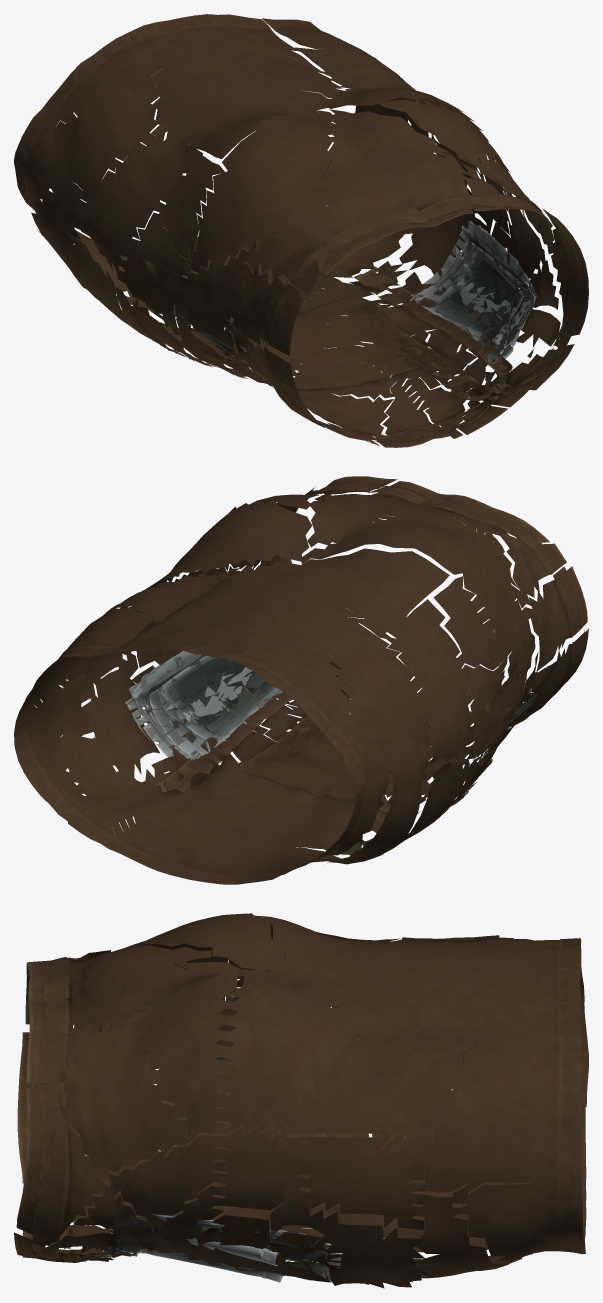
File: adult-base-01.glb
3 renders of one model, top to bottom at view 1: azimuth 30°, elevation 25°; view 2: azimuth 150°, elevation 25°; view 3: azimuth 270°, elevation 25°, orthographic. The views are drawn at different scales.
Parts seen in each view (by area): view 1: geometry_0; view 2: geometry_0; view 3: geometry_0.
Boxes of the visible parts, x1,y1,x2,y2 form: geometry_0: [14, 14, 588, 447]; geometry_0: [14, 476, 588, 884]; geometry_0: [14, 913, 588, 1288].
Size of the model in its own units: 0.00412 by 0.00284 by 0.00512.
Materials: 1 (1 with a texture image).
